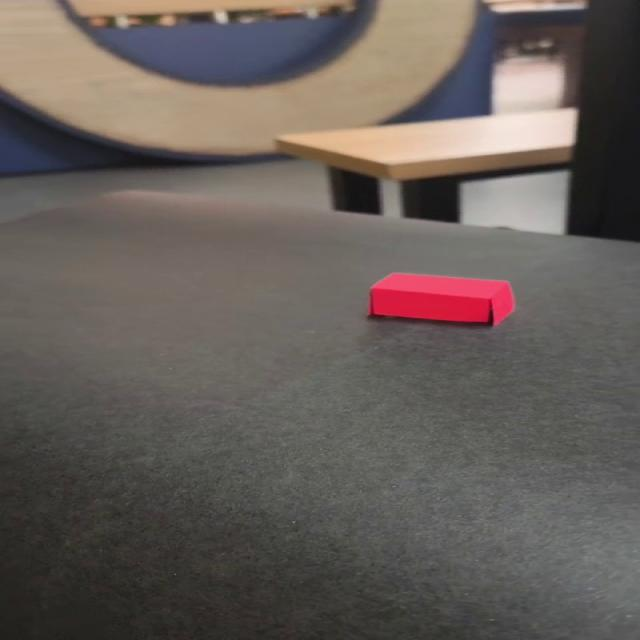red block: (366, 271, 514, 326)
